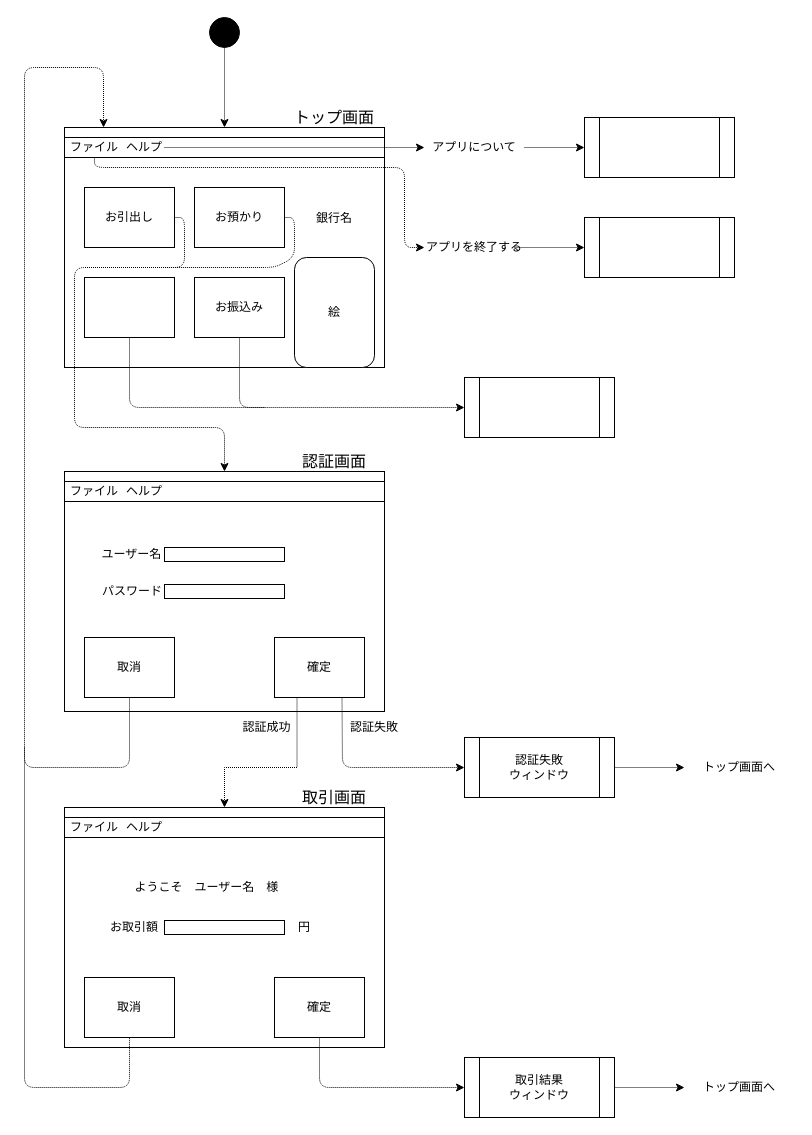
This 812x1135 diagram has some shape labels left out. The centre of each missing label's shape, as x and y in pixels:
"アプリのバージョン表示ウィンドウ" belongs at [659,147].
"アプリ終了確認 ウィンドウ" belongs at [659,247].
"工事中 ウィンドウ" belongs at [539,407].
"残高照会" belongs at [129,307].
